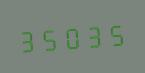five: (106, 17, 127, 49), (40, 22, 61, 53)
three: (18, 23, 39, 55), (84, 19, 105, 50)
zero: (62, 20, 83, 52)
